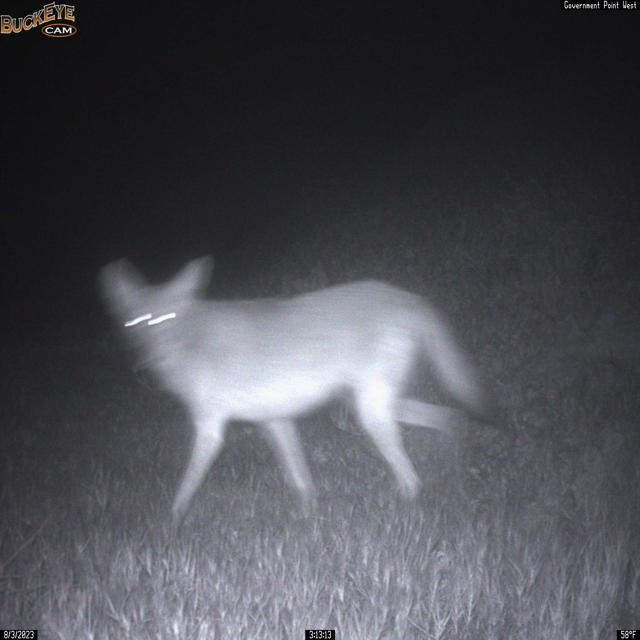coyote: (95, 252, 506, 535)
